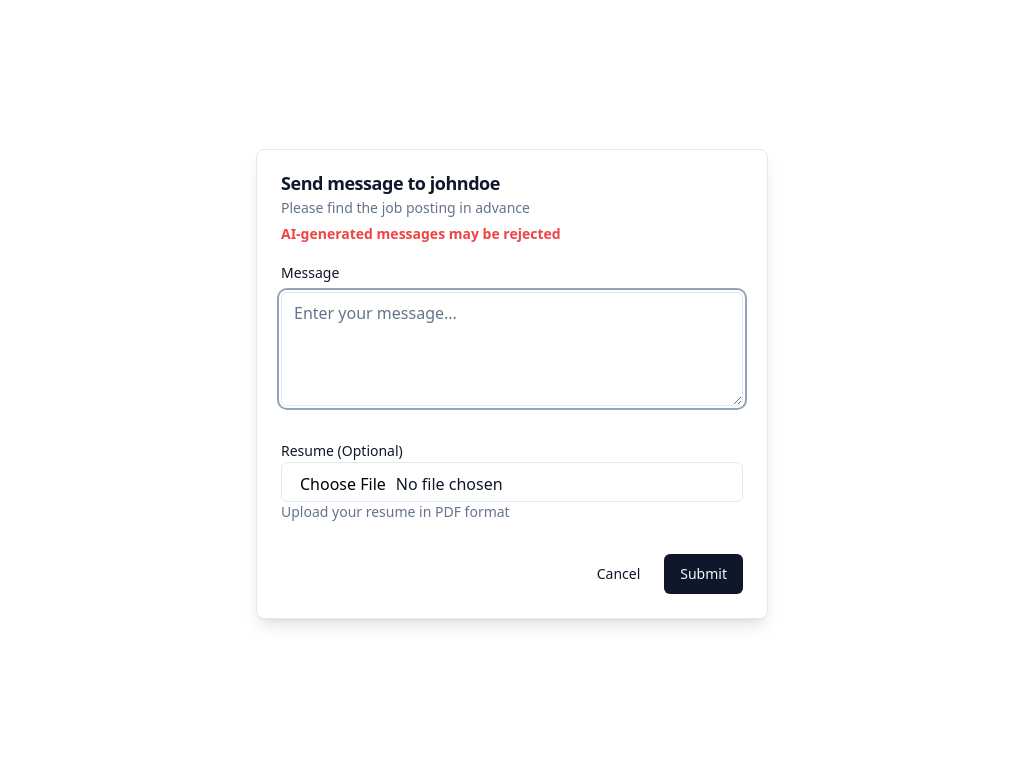
Test case: ContactDialog › Dialog Actions › should disable submit button while loading
The width and height of the screenshot is (1024, 768).
Type "Hello, I am interested in this position. I have 5 years of experience." into the text box.
click(512, 349); type("Hello, I am interested in this position. I have 5 years of experience.")  # box [281,292,743,406]
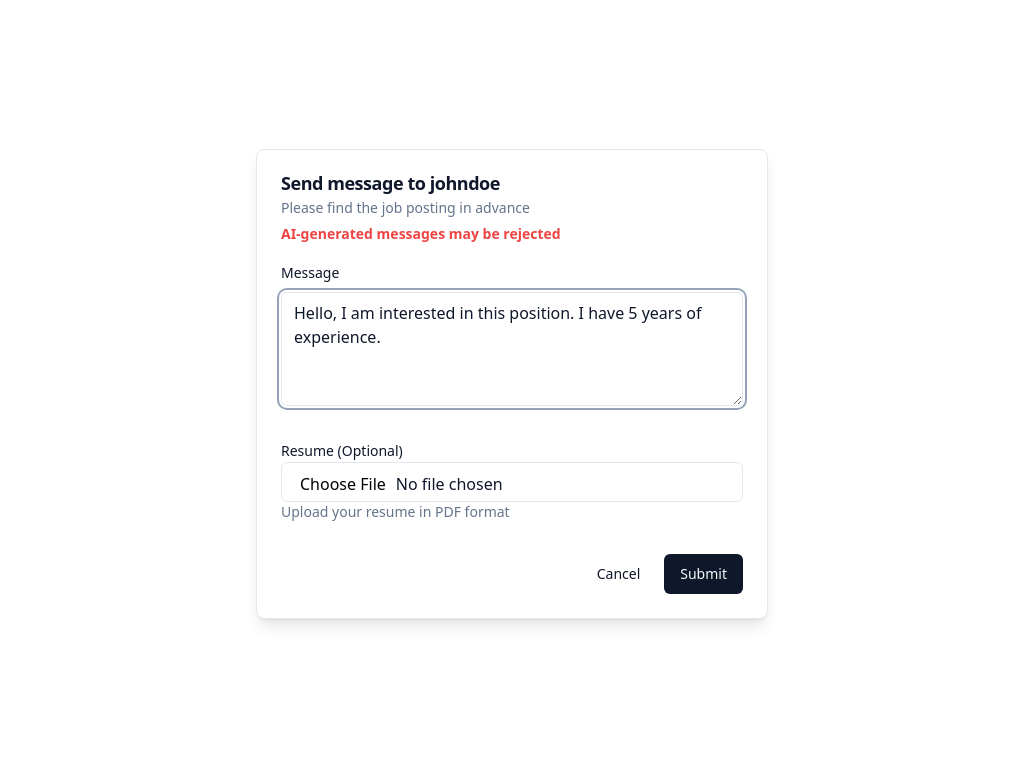
Click the button "Submit".
click(704, 574)  # box [664,554,743,594]
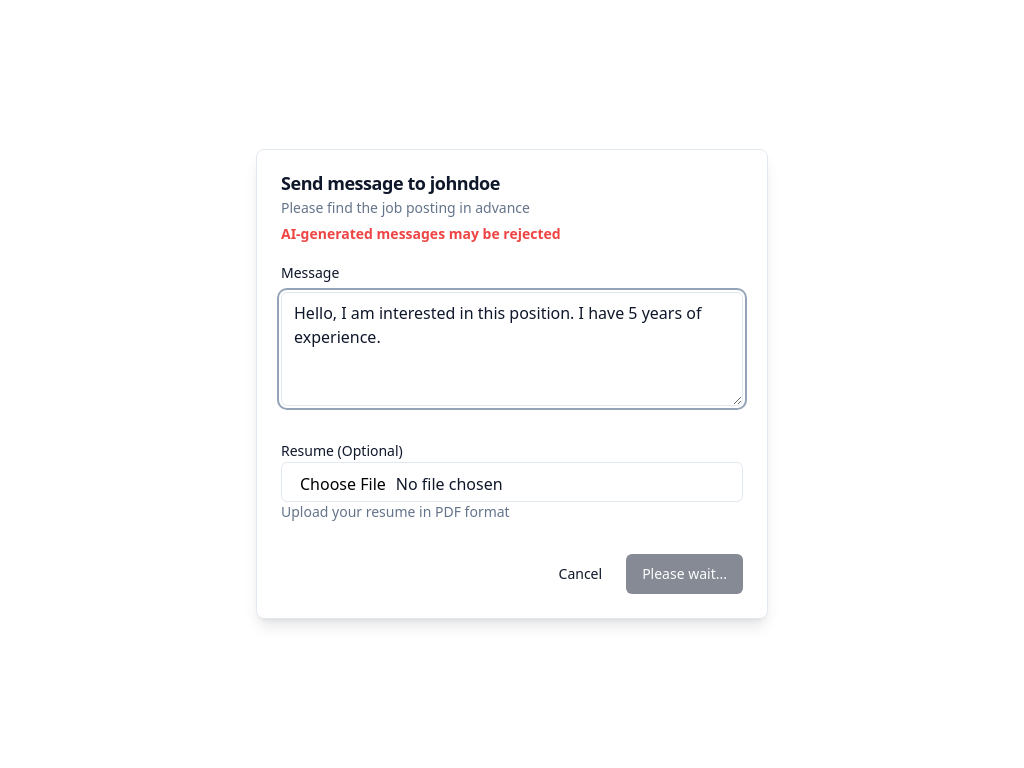
Expected: the button "Please wait..." is disabled, [626,554,743,594]
